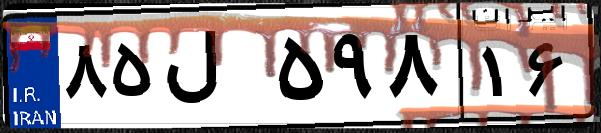1: (475, 38, 525, 113)
5: (270, 28, 330, 110), (110, 28, 158, 98)
6: (525, 38, 570, 115)
8: (385, 28, 445, 110), (57, 26, 110, 100)
9: (330, 28, 385, 110)
ل: (158, 20, 270, 120)
